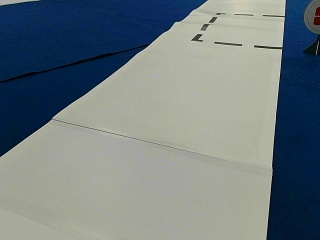company: (303, 0, 320, 32)
